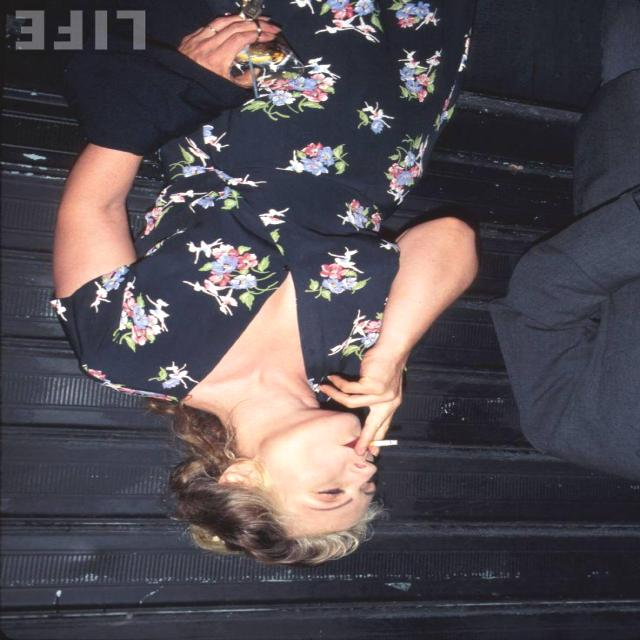smoke: (324, 426, 416, 464)
